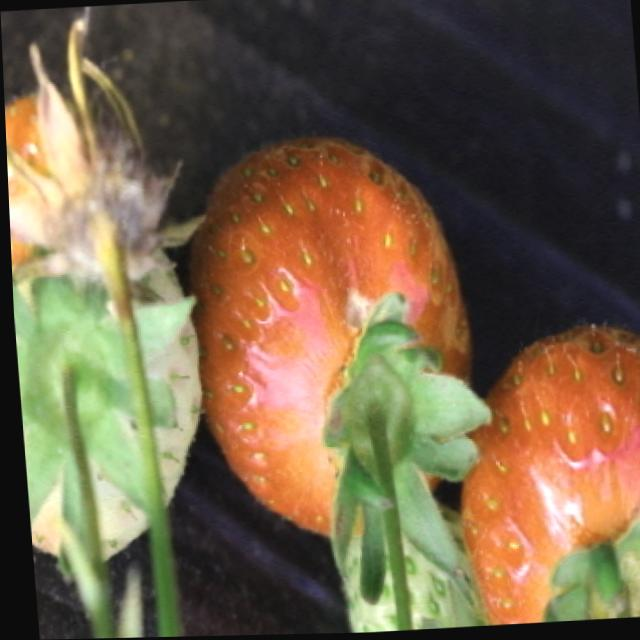Gray Mold: (5, 19, 203, 314)
